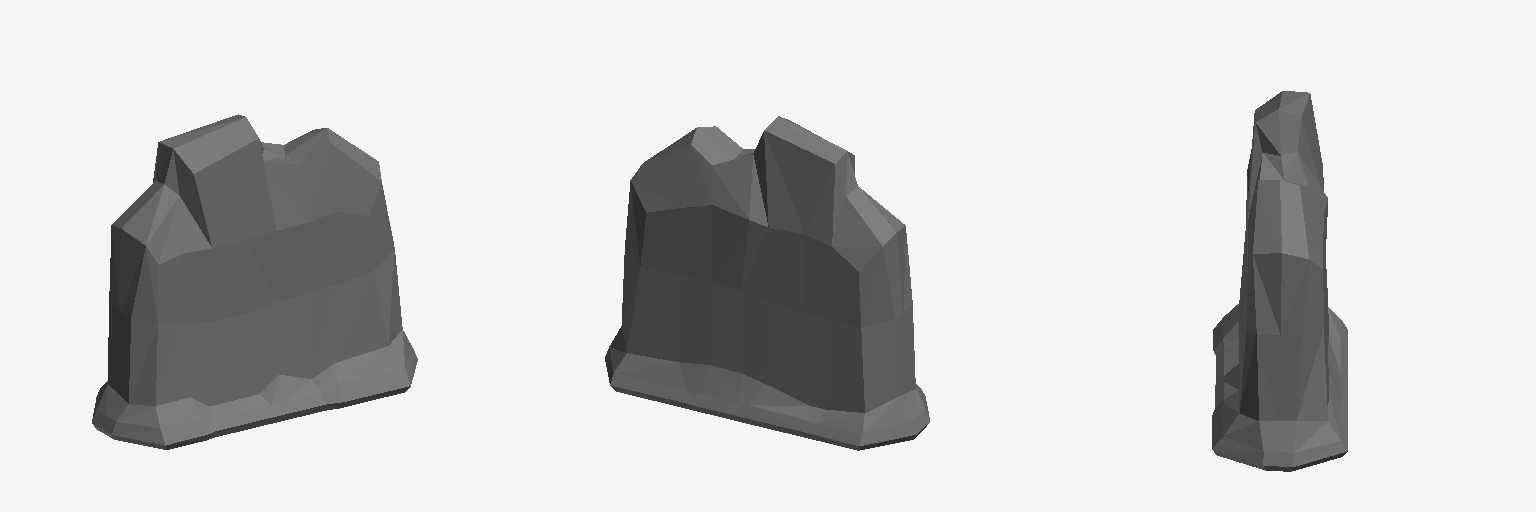
Rendered from Wall.obj.
The picture shows the model from 3 angles: view 1: azimuth 30°, elevation 25°; view 2: azimuth 150°, elevation 25°; view 3: azimuth 270°, elevation 25°; orthographic projection.
Parts seen in each view (by area): view 1: Wall; view 2: Wall; view 3: Wall.
Boxes of the visible parts, x1=… form: Wall: x1=92, y1=114, x2=417, y2=449; Wall: x1=605, y1=116, x2=929, y2=450; Wall: x1=1212, y1=91, x2=1347, y2=471.
Bounding box in the file's own units: 159 × 137 × 59.83.